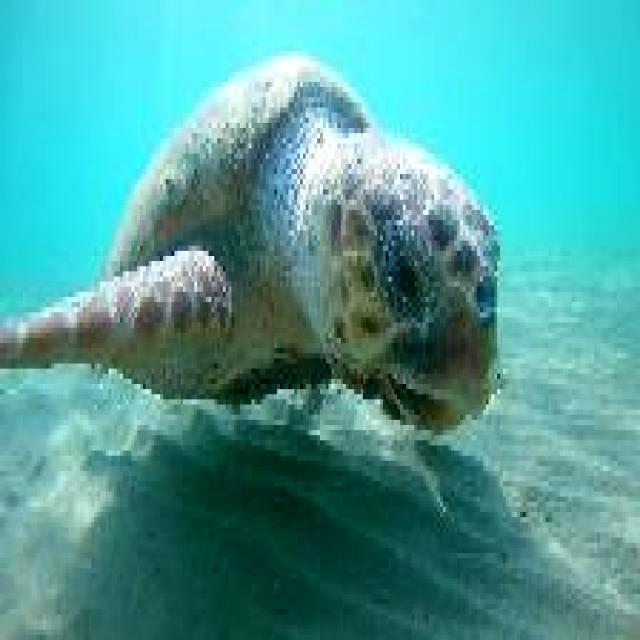Sea turtle: (0, 31, 506, 456)
